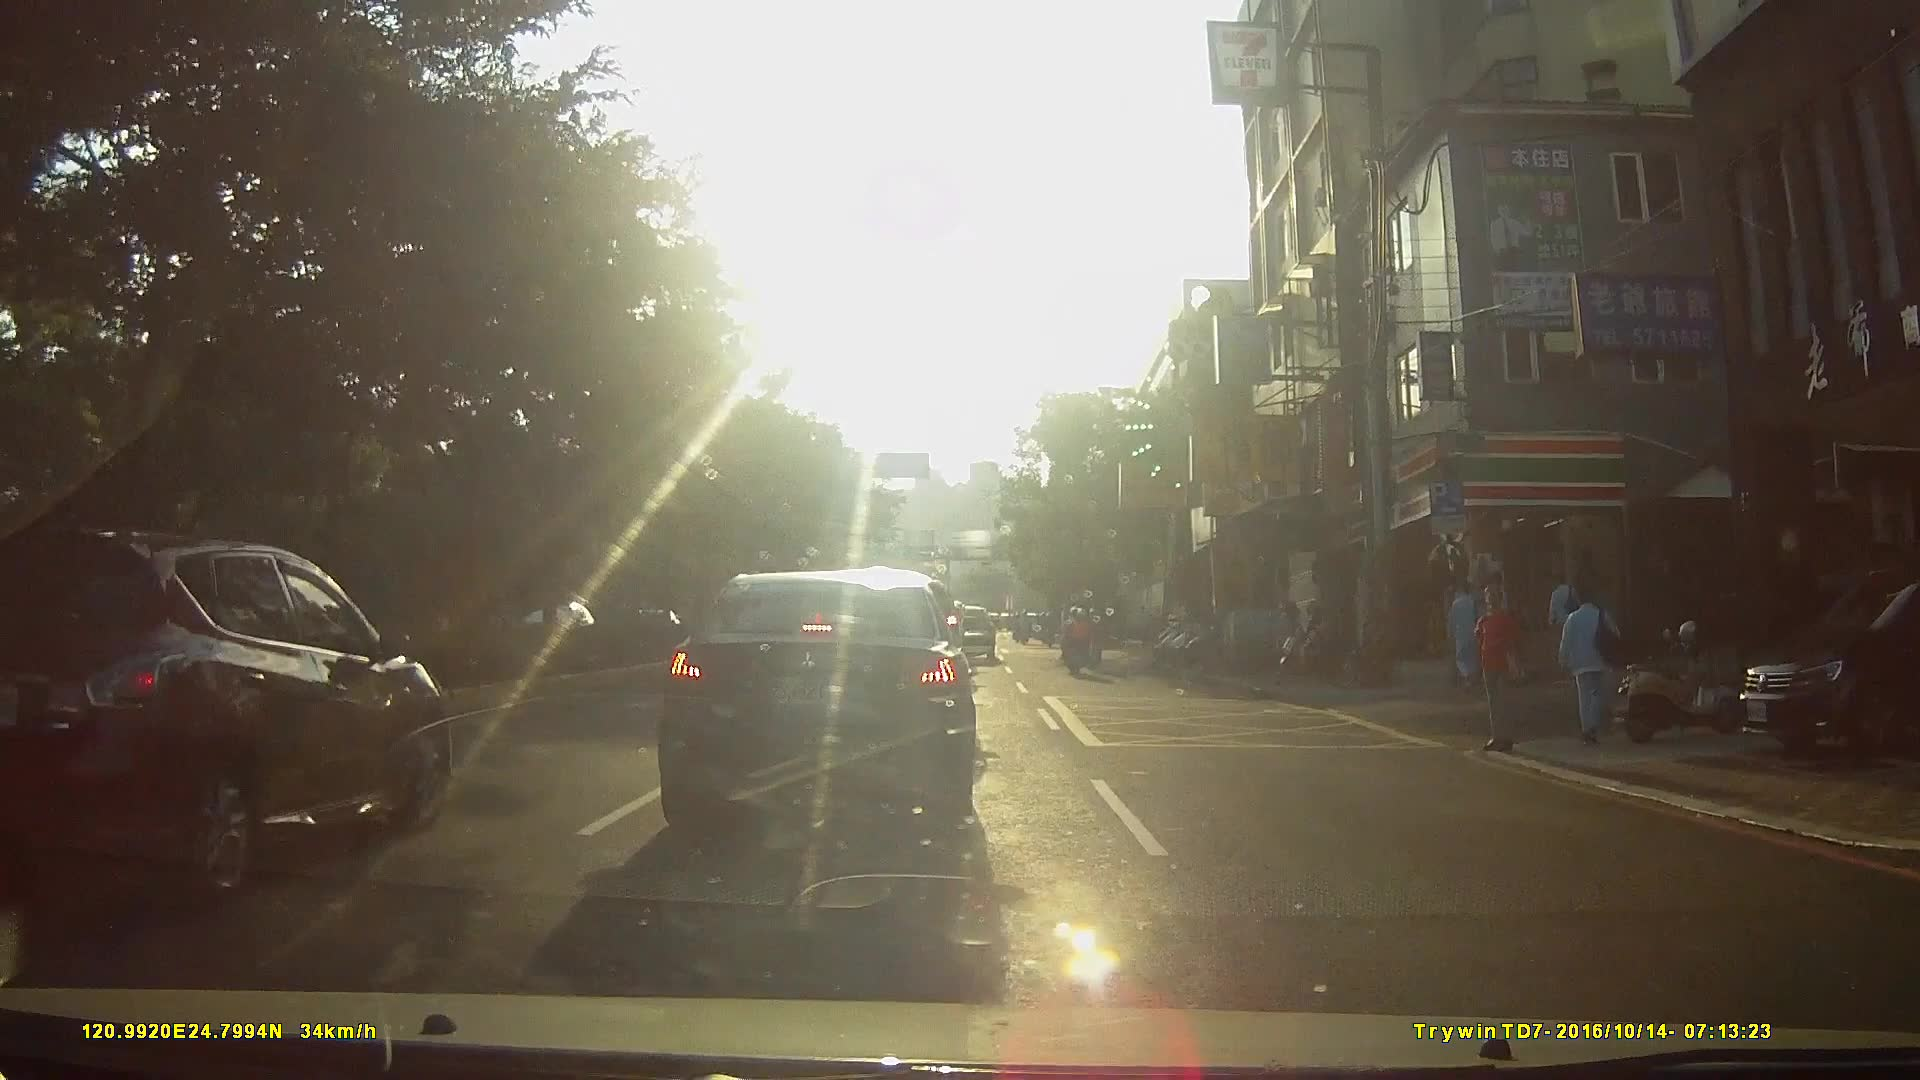pedestrian: (1554, 585, 1619, 742), (1474, 591, 1527, 758), (1449, 579, 1487, 683)
rider: (1060, 609, 1098, 682), (1062, 606, 1088, 660)
vehicle: (2, 526, 462, 912), (656, 572, 994, 821), (1728, 569, 1920, 763)
